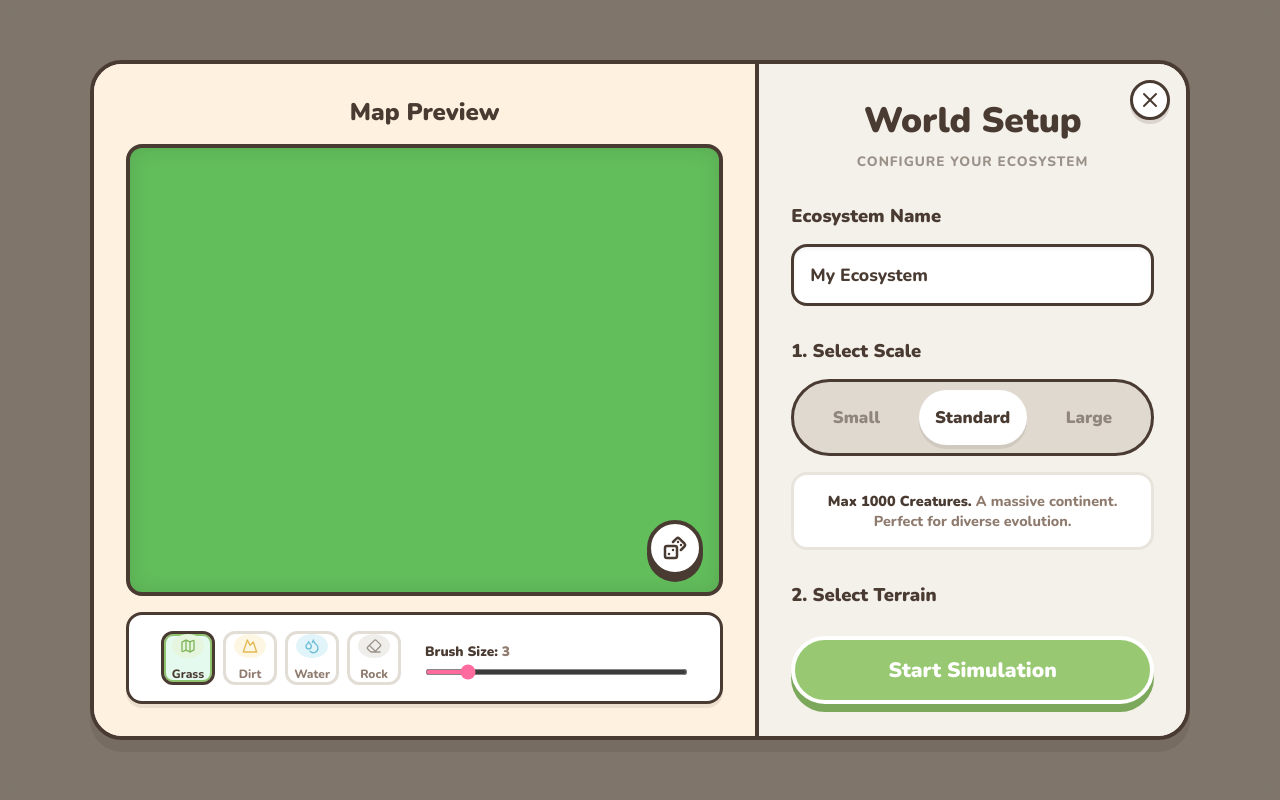
Test: WorldSetupModal › handles brush selections
Click the button "Water".
click(312, 658)  # box [285,631,339,685]
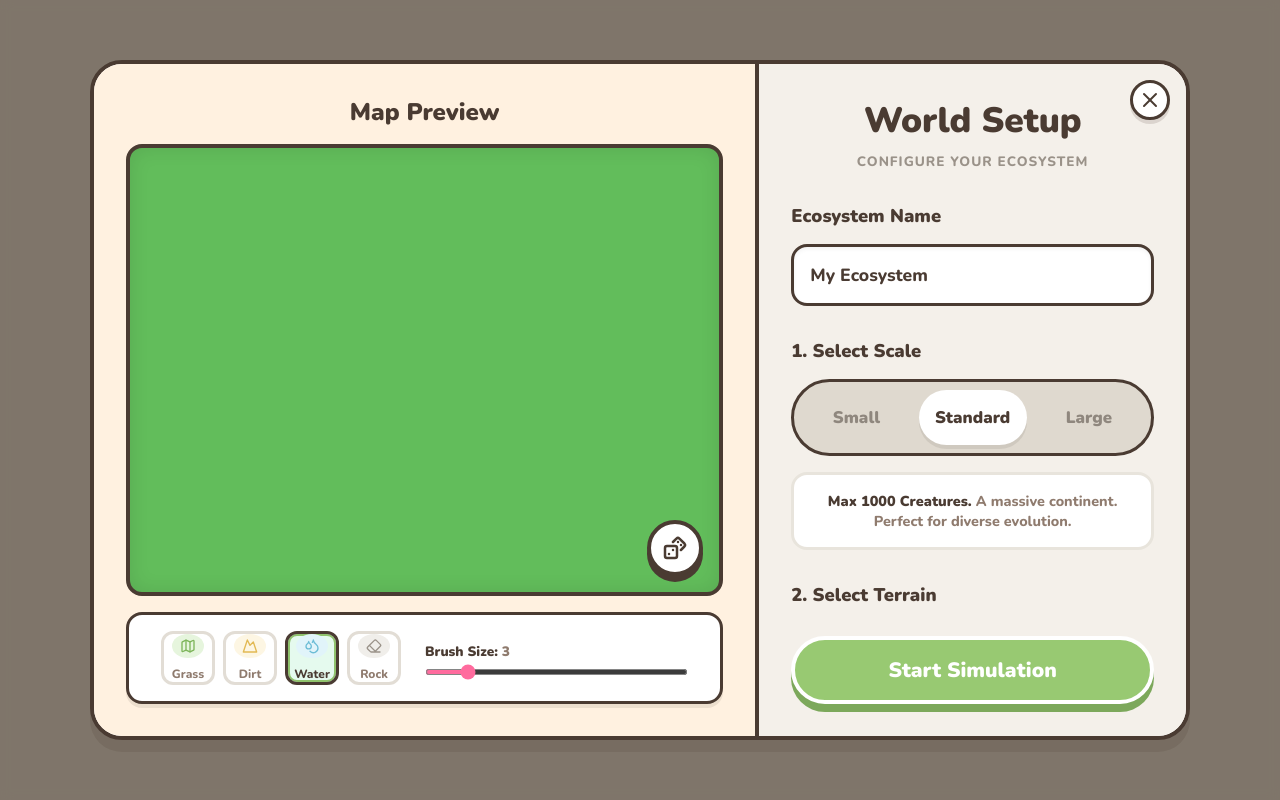
Click the button "Dirt".
click(250, 658)  # box [223,631,277,685]
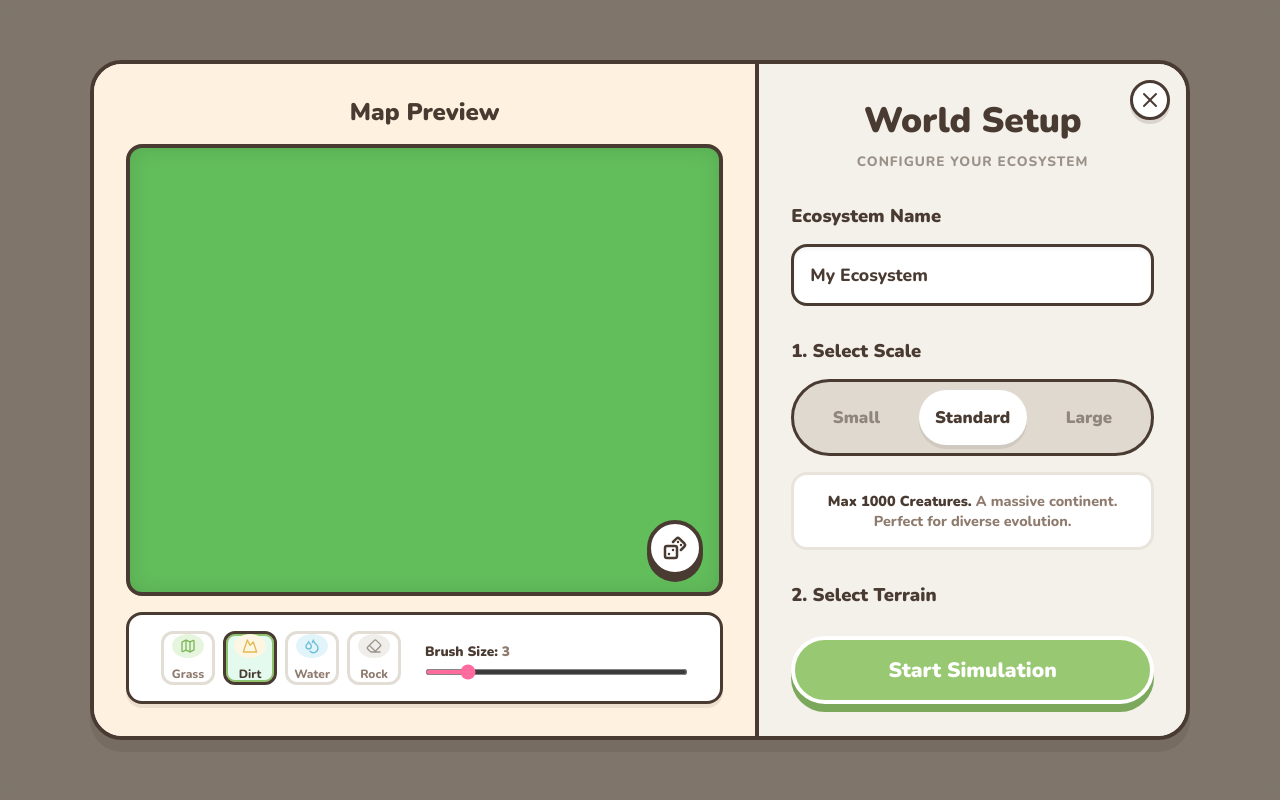
Click the button "Grass".
click(188, 658)  # box [161,631,215,685]
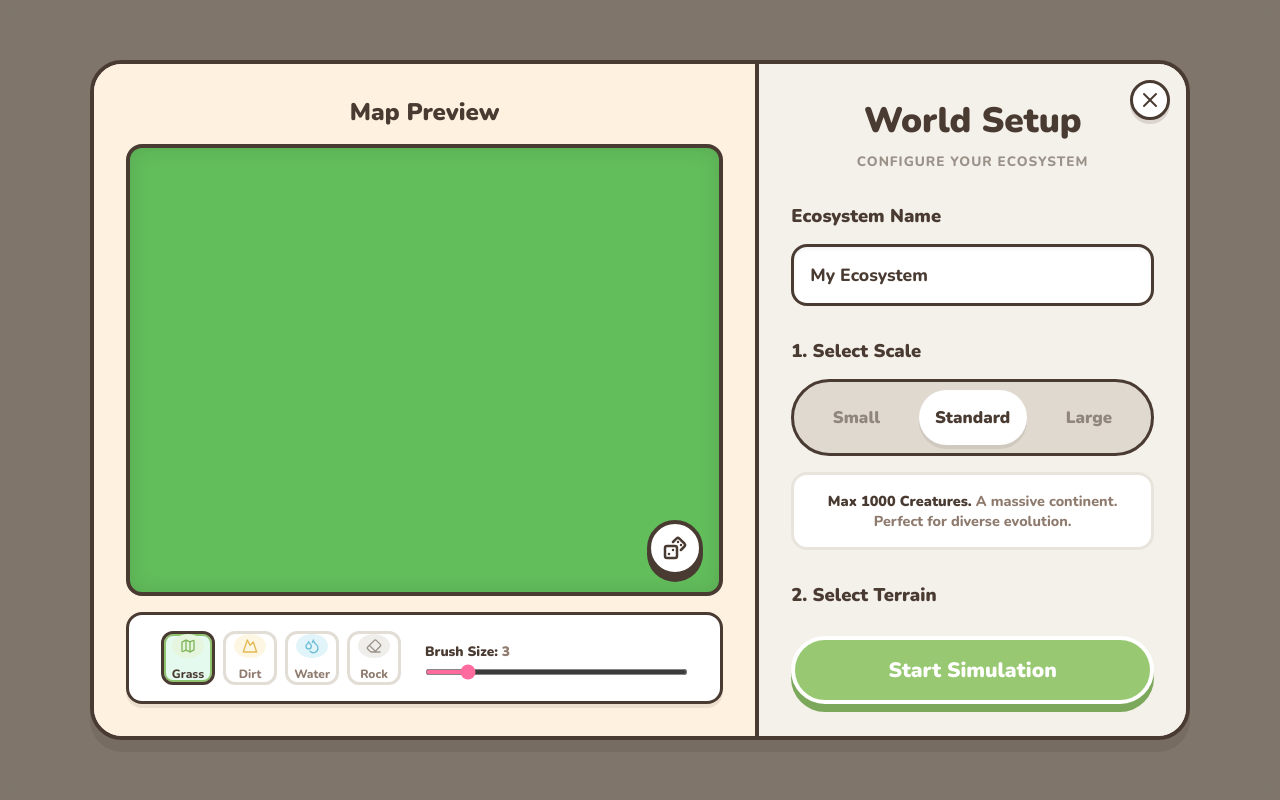
Click the button "Rock".
click(374, 658)  # box [347,631,401,685]
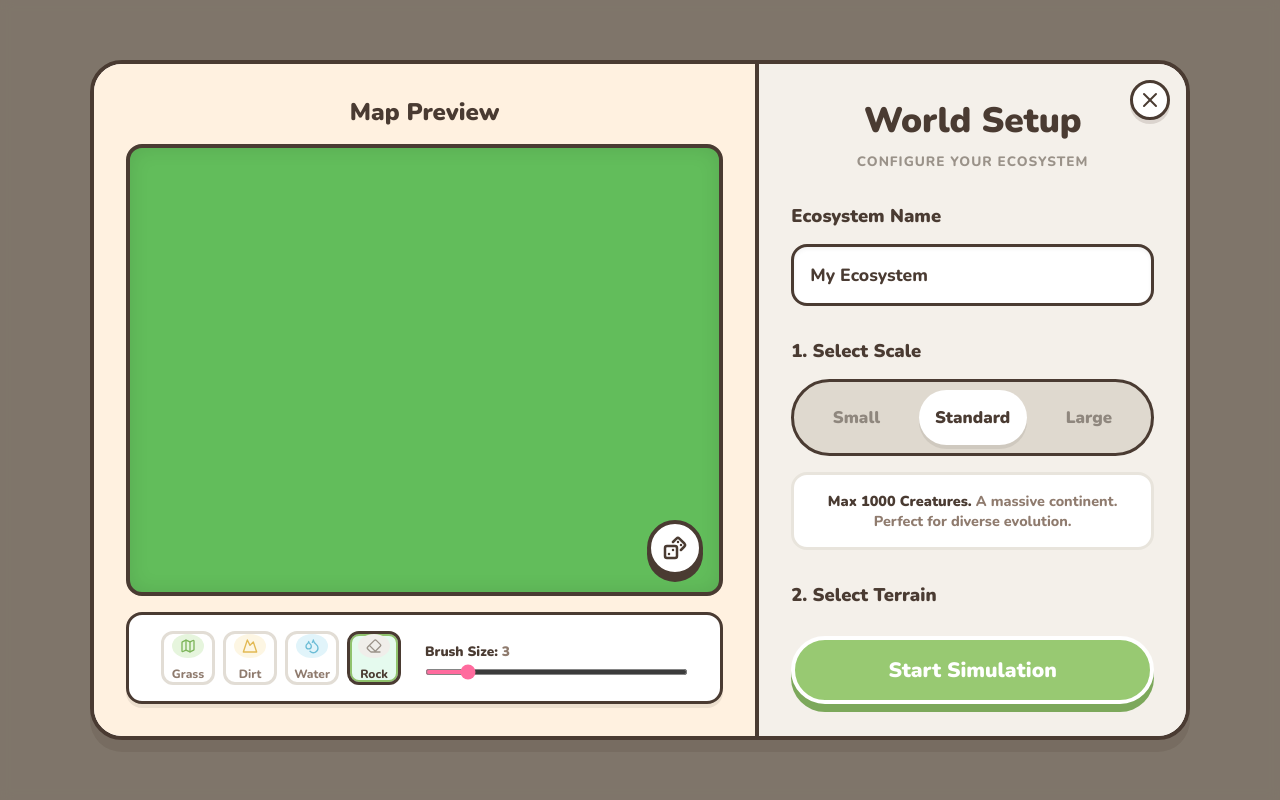
Set the slider to "10" at (592,672), box [425,668,688,674]
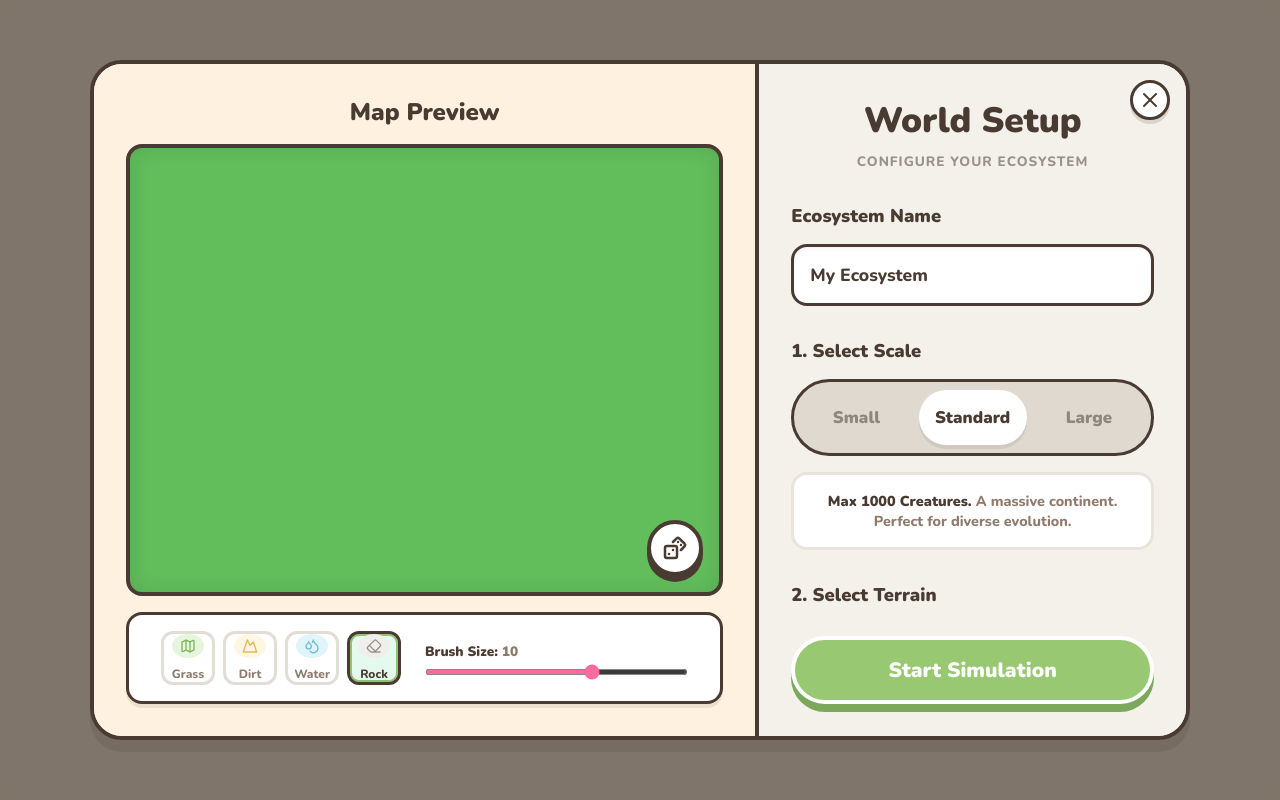
Now the text "10" is shown, box [502,642,518,660]
